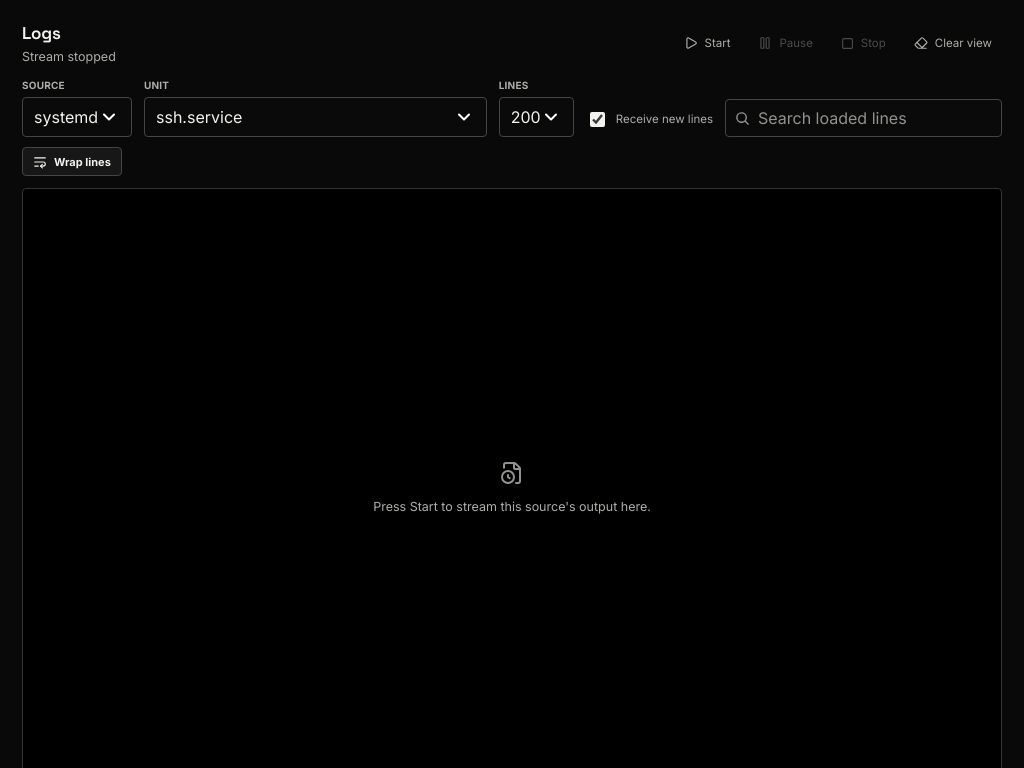
Test: LogsPane reading position › stops a stream cancelled while its start is pending
What coordinates should you click on to do the following:
click the button "Start"
I would click on:
 (707, 43)
Its box is [674,28,740,58].
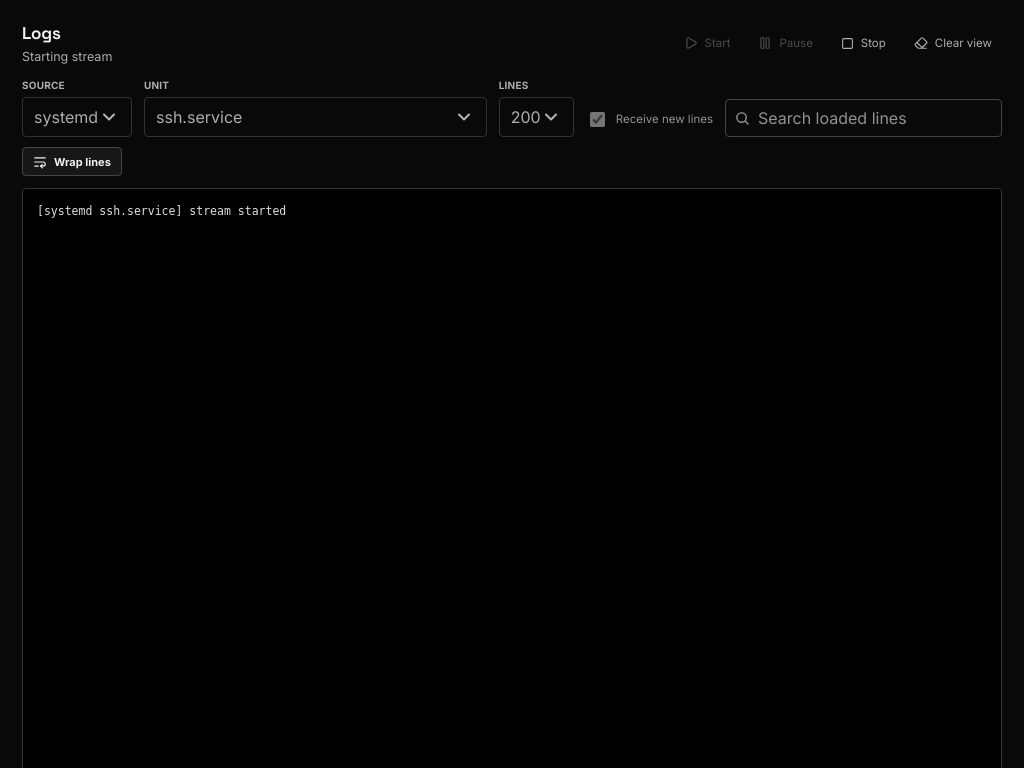
What coordinates should you click on to do the following:
click the button "Stop"
I would click on:
 (863, 43)
Its box is [831,28,896,58].
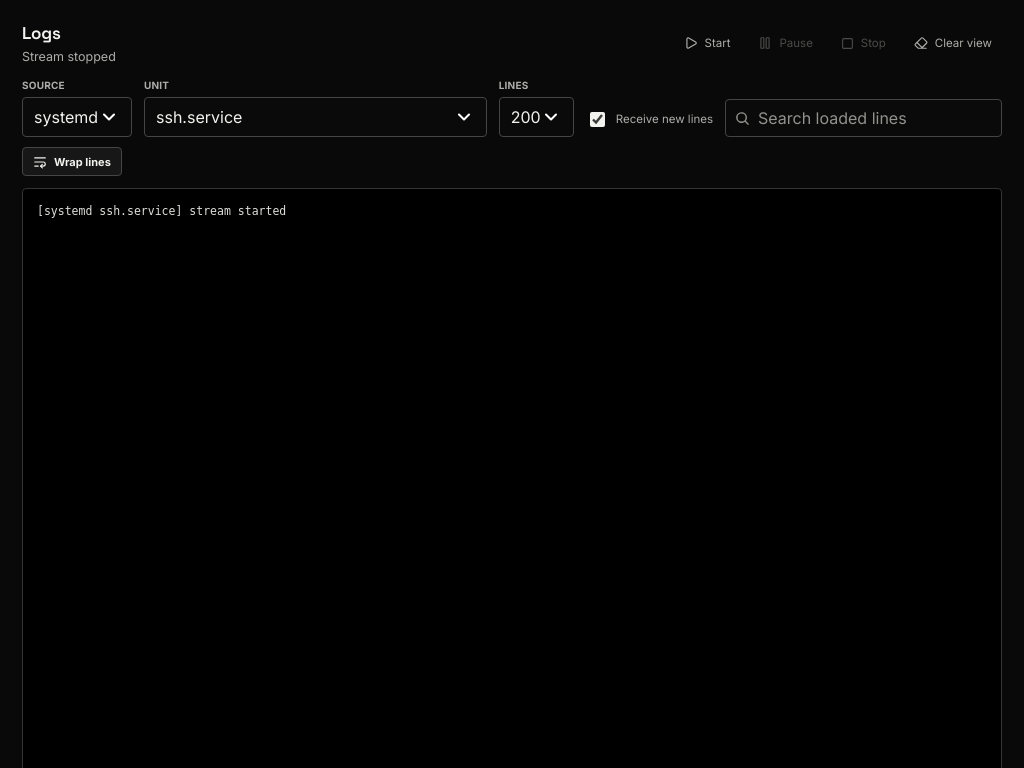
Check: the text "Stream stopped" is shown, box [22,49,116,64]
